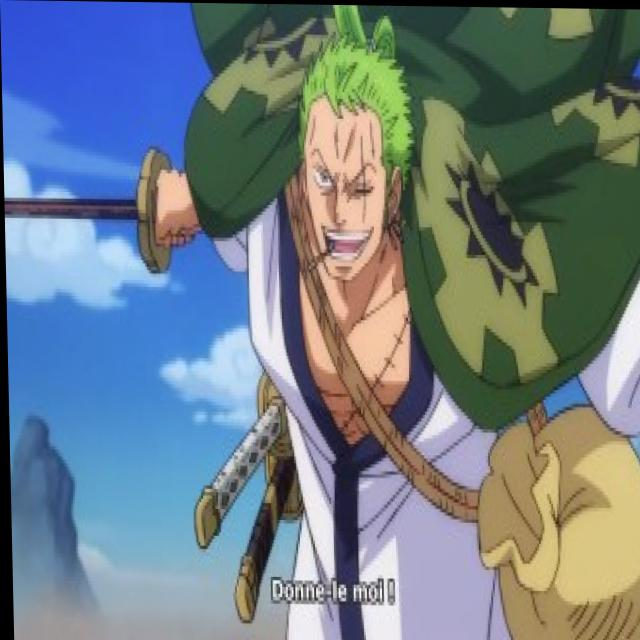Zoro: (272, 33, 433, 294)
